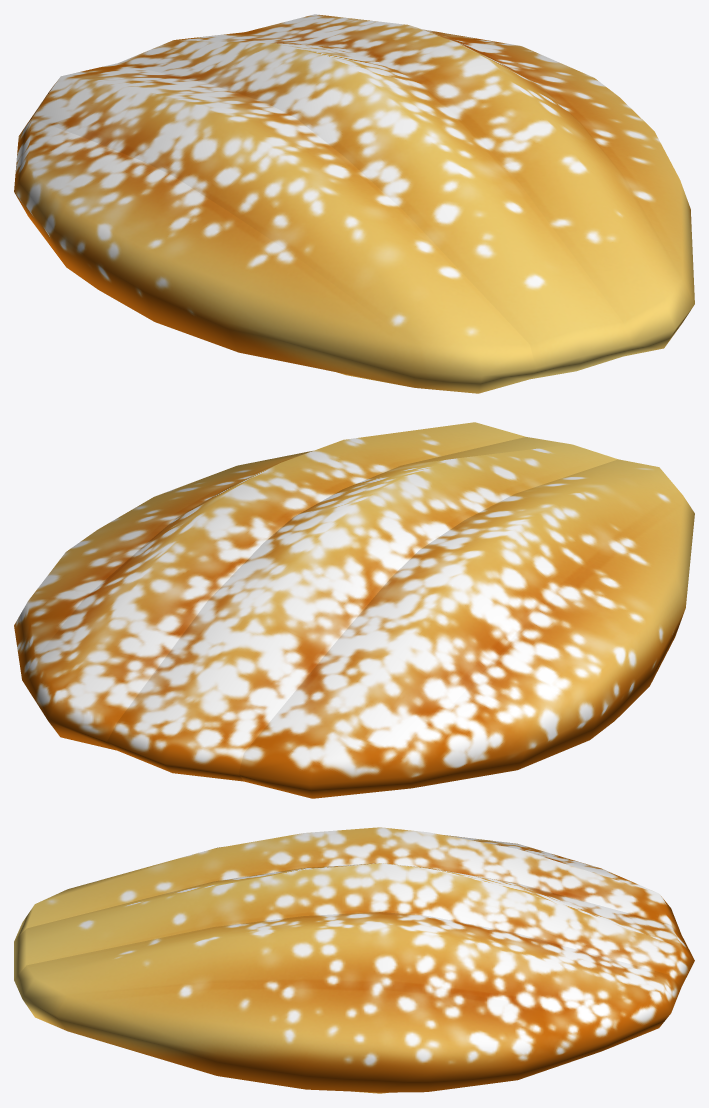
The model's file is Madeleine_03.fbx.
The picture shows the model from 3 angles, top to bottom: view 1: azimuth 30°, elevation 25°; view 2: azimuth 150°, elevation 25°; view 3: azimuth 270°, elevation 25°; orthographic projection. The views are drawn at different scales.
Parts seen in each view (by area): view 1: Madeleine_03; view 2: Madeleine_03; view 3: Madeleine_03.
Boxes of the visible parts, <box> form: Madeleine_03: <box>14,14,694,393</box>; Madeleine_03: <box>14,422,694,798</box>; Madeleine_03: <box>14,827,694,1093</box>.
Bounding box in the file's own units: 26.96 × 11.03 × 35.56.
